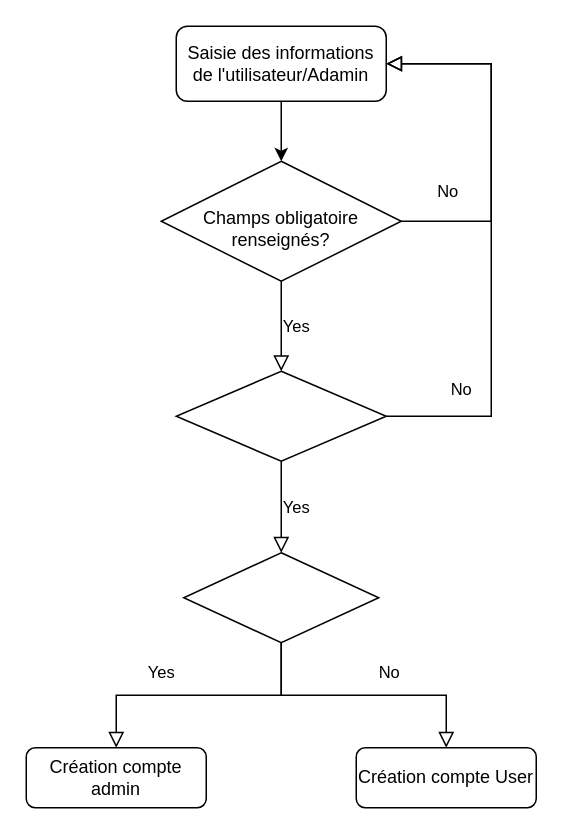
Image size: 563x834. Some labels were removed from this diagram. Each missing label, with the box of its shape:
Compte admin ?: (182, 551, 379, 643)
Email est un email ?: (175, 370, 386, 461)
